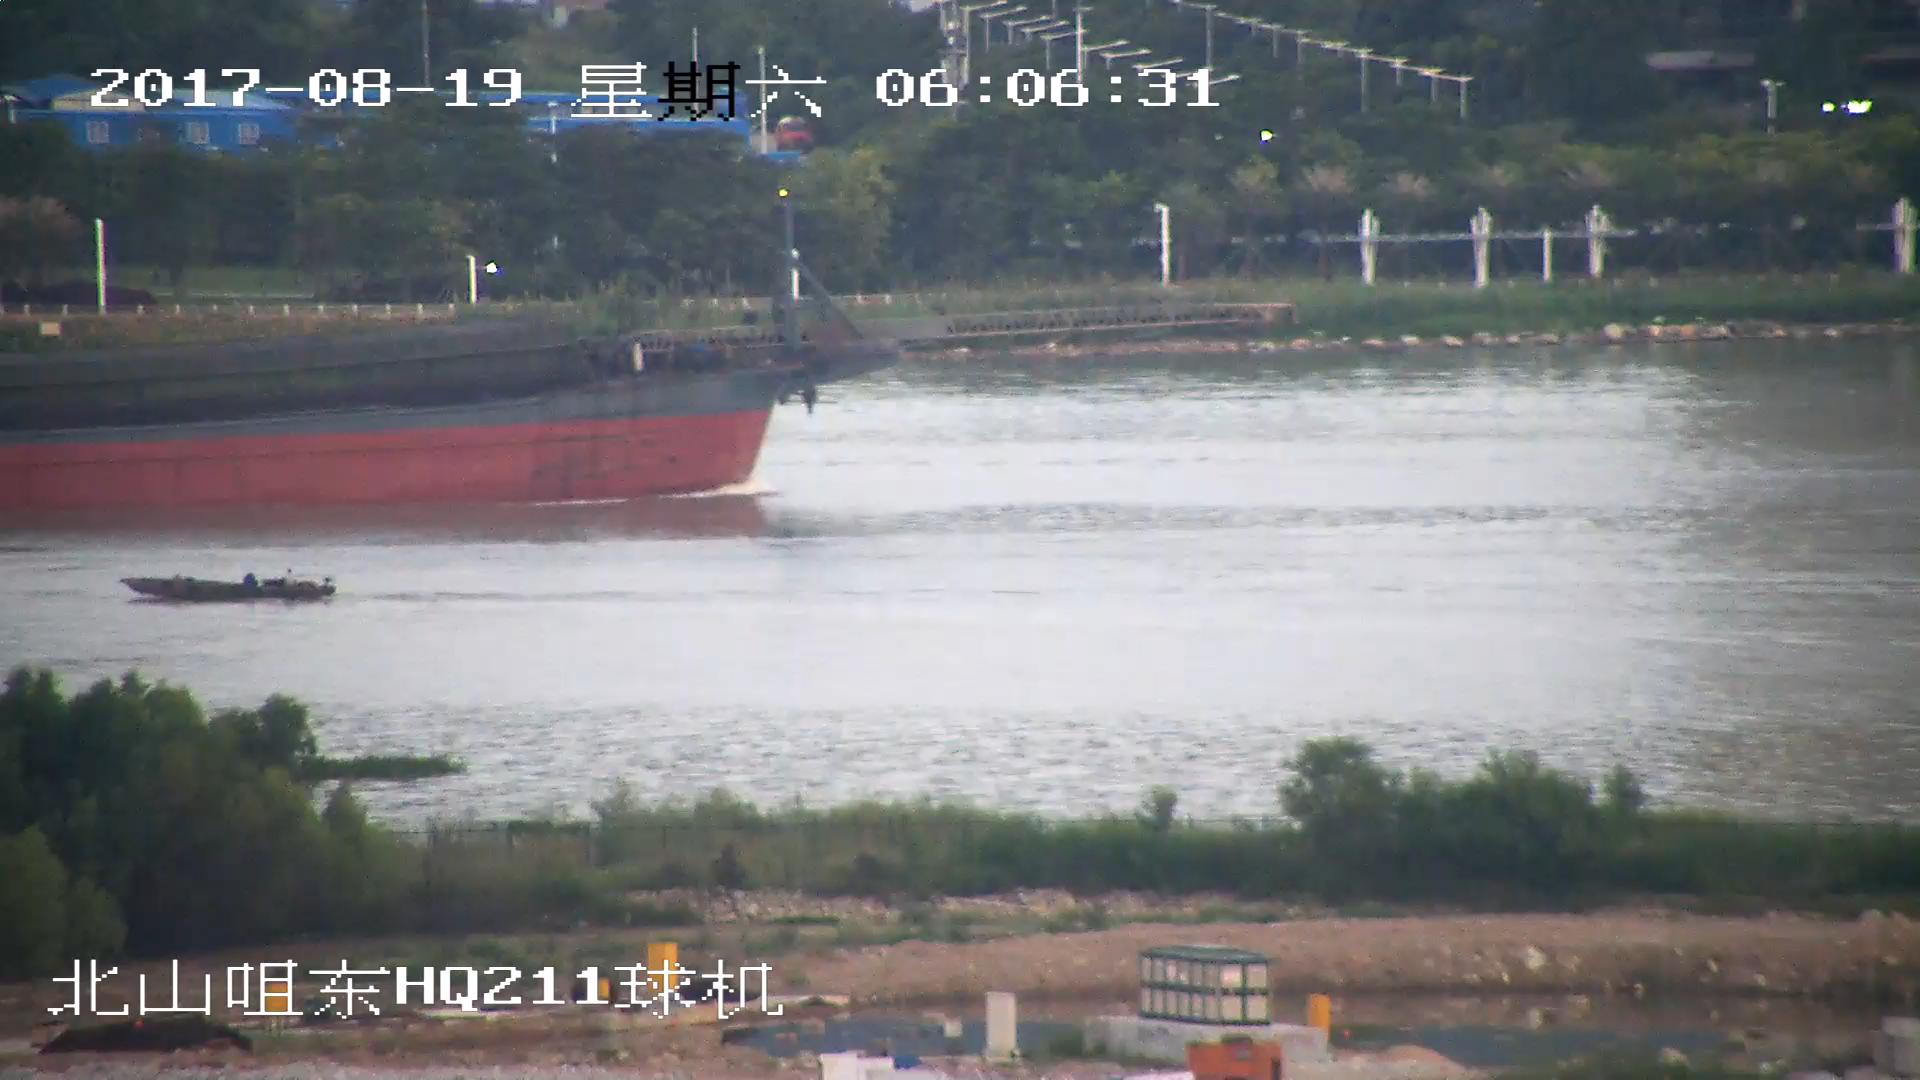bulk cargo carrier: (1, 196, 1284, 517)
fishing boat: (121, 566, 340, 604)
